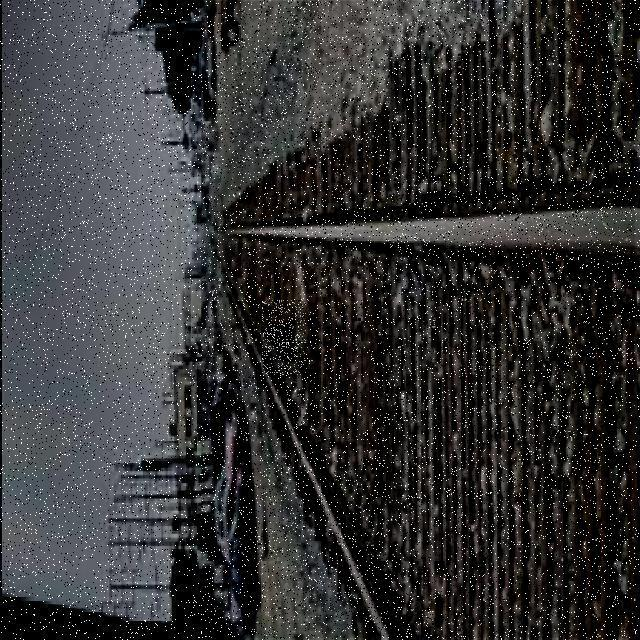rail: (203, 2, 636, 639)
